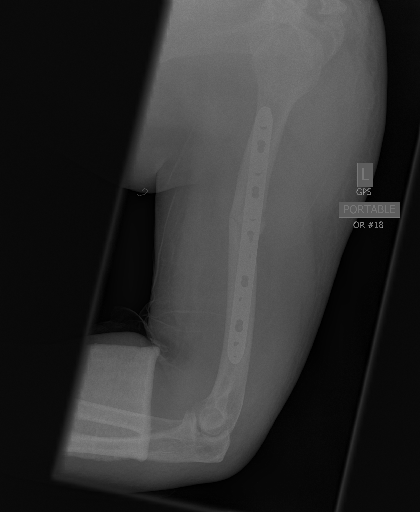implant: (222, 98, 277, 380)
